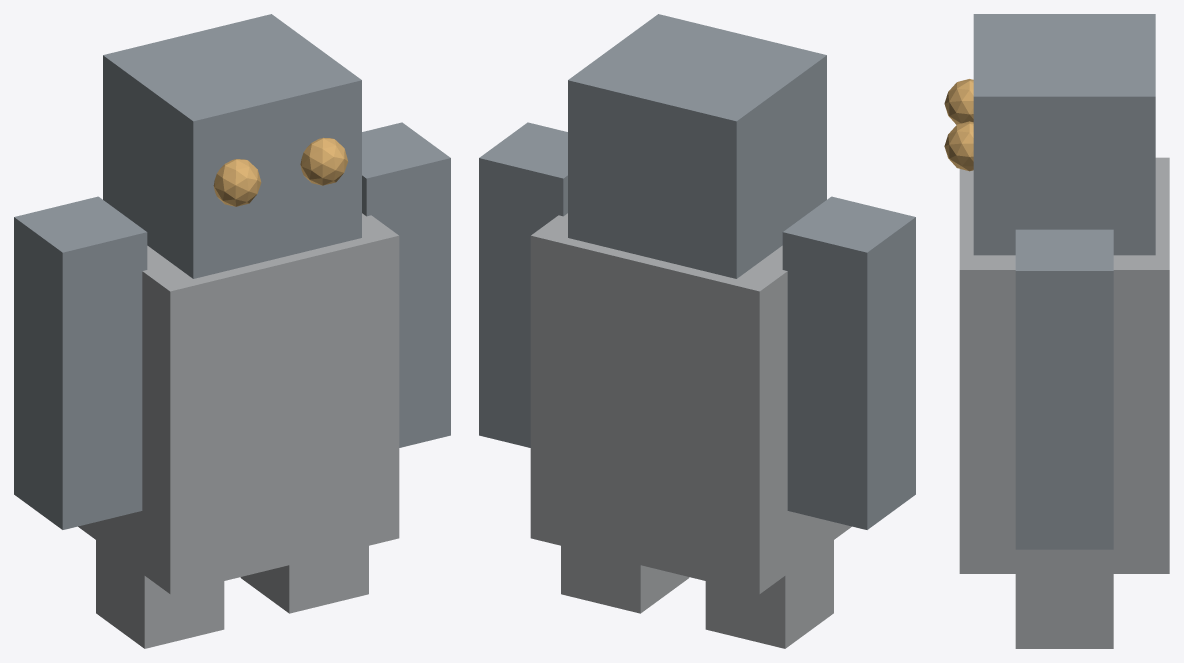
Rendered from golem_piedra.glb.
3 renders of one model, left to right at view 1: azimuth 30°, elevation 25°; view 2: azimuth 150°, elevation 25°; view 3: azimuth 270°, elevation 25°, orthographic.
Visible parts, largest first — view 1: part_000, part_001, part_002, part_003, part_004, part_005, part_007, part_006; view 2: part_000, part_001, part_002, part_003, part_004, part_005; view 3: part_001, part_000, part_003, part_005, part_007, part_006.
Boxes of the visible parts, x1=… form: part_000: x1=78, y1=213, x2=399, y2=594; part_001: x1=103, y1=14, x2=361, y2=278; part_002: x1=14, y1=196, x2=147, y2=529; part_003: x1=362, y1=122, x2=450, y2=447; part_004: x1=96, y1=540, x2=224, y2=648; part_005: x1=240, y1=546, x2=368, y2=613; part_007: x1=300, y1=137, x2=348, y2=185; part_006: x1=213, y1=159, x2=261, y2=206; part_000: x1=530, y1=213, x2=851, y2=594; part_001: x1=568, y1=14, x2=826, y2=278; part_002: x1=782, y1=196, x2=915, y2=529; part_003: x1=479, y1=122, x2=567, y2=447; part_004: x1=705, y1=540, x2=833, y2=648; part_005: x1=561, y1=546, x2=689, y2=613; part_001: x1=973, y1=14, x2=1155, y2=255; part_000: x1=959, y1=157, x2=1169, y2=573; part_003: x1=1015, y1=229, x2=1113, y2=549; part_005: x1=1015, y1=574, x2=1113, y2=648; part_007: x1=944, y1=121, x2=973, y2=171; part_006: x1=944, y1=79, x2=973, y2=124.
Size of the model in its own units: 1.61 by 2.12 by 0.805.
